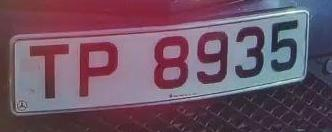3: (229, 21, 270, 84)
5: (264, 16, 305, 77)
8: (147, 31, 195, 92)
9: (190, 26, 234, 88)
P: (69, 30, 126, 109)
T: (18, 38, 78, 109)
